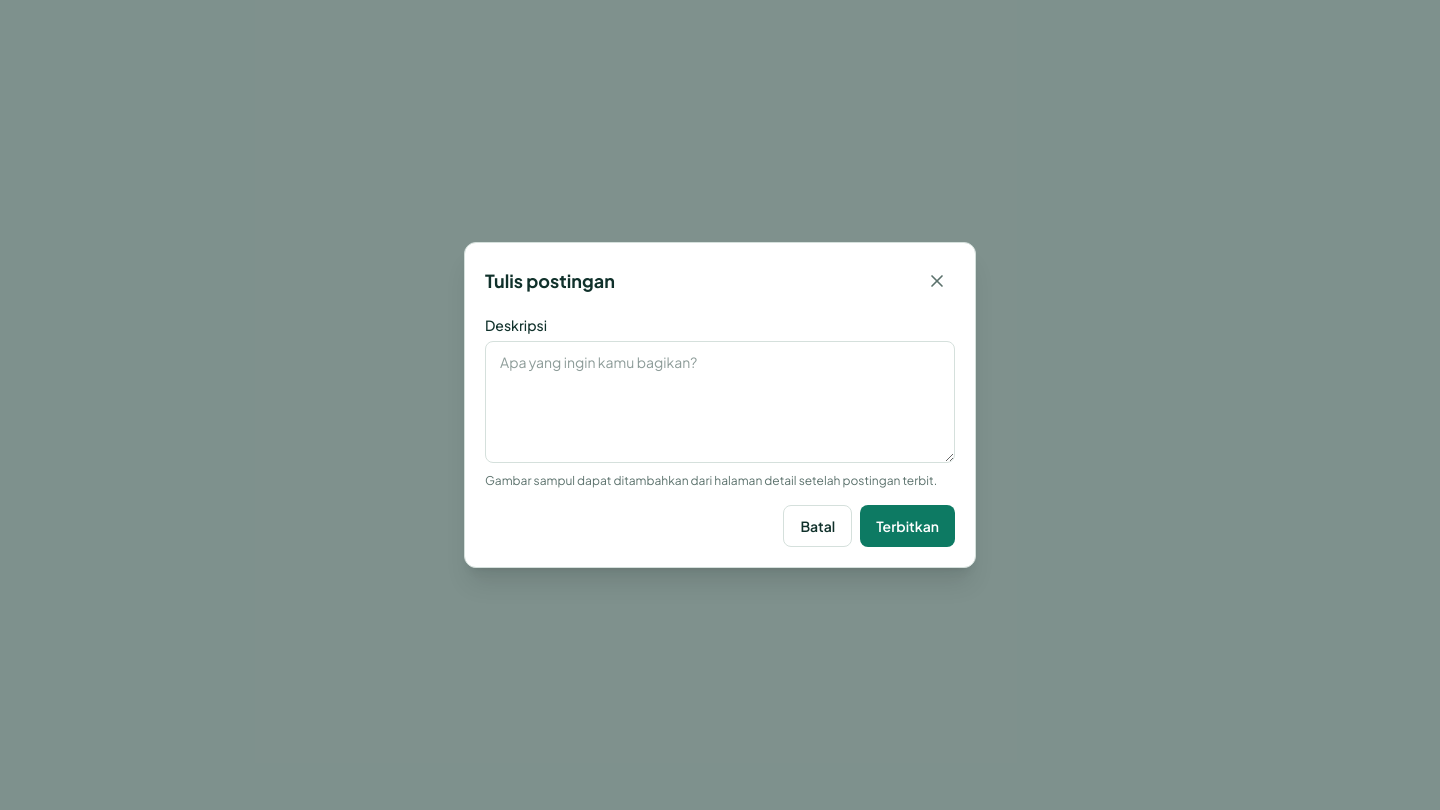
Test: AddModal › menghapus pesan error setelah deskripsi diisi
Step 1. Click the button "Terbitkan" → (908, 526), box x1=860 y1=505 x2=955 y2=547
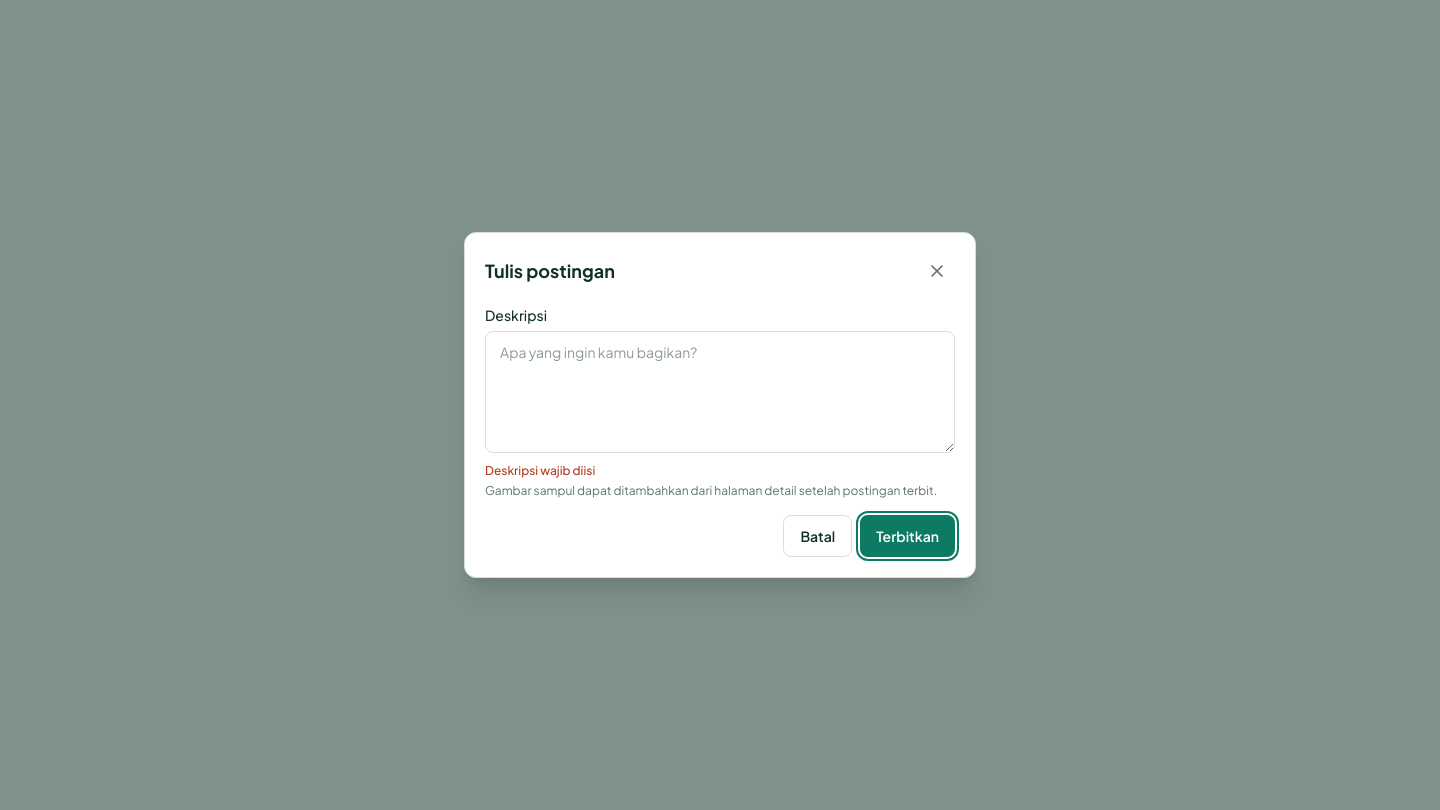
Step 2. Type "isi" into the text box labelled "Deskripsi" → (720, 392), box x1=485 y1=331 x2=955 y2=453
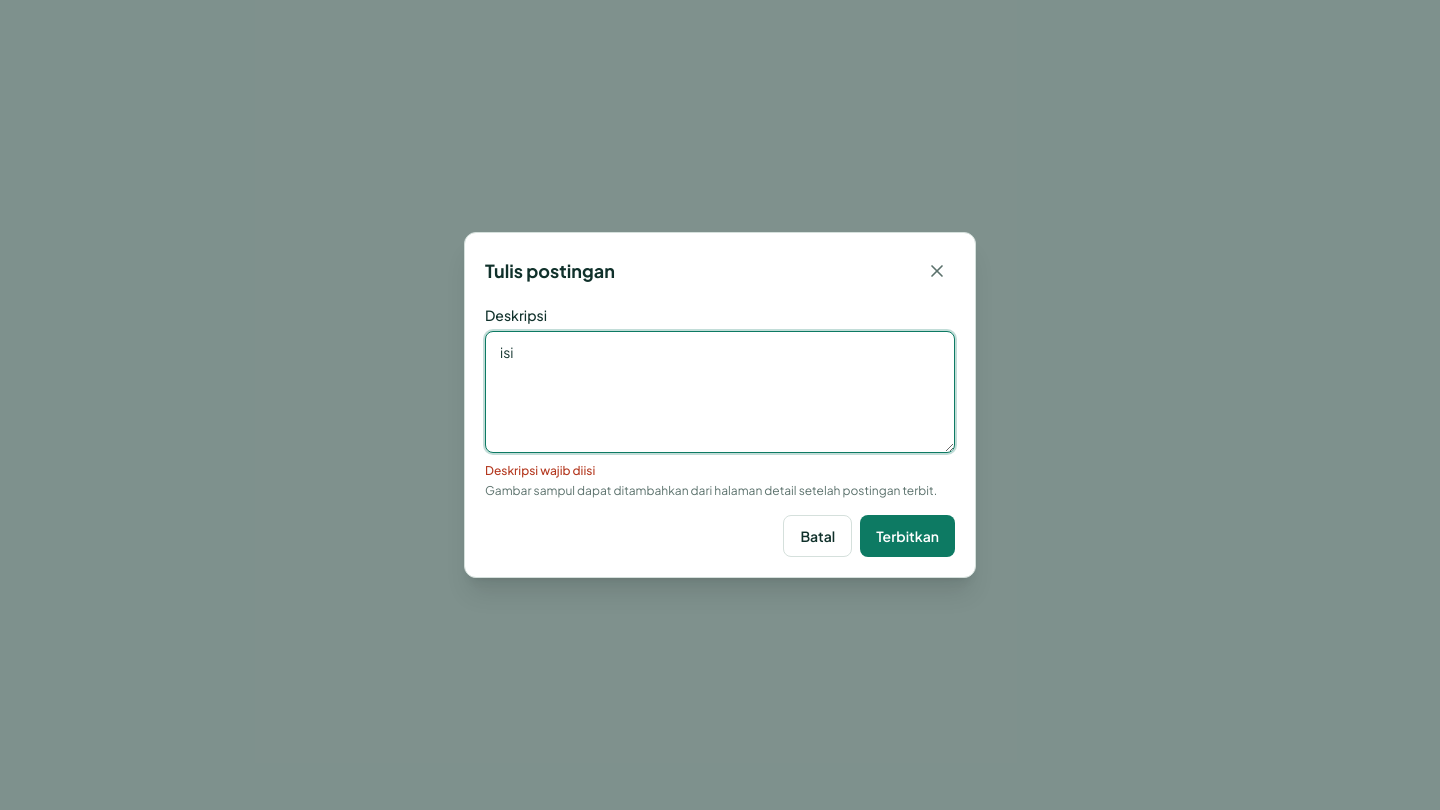
Step 3. Click the button "Terbitkan" → (908, 536), box x1=860 y1=515 x2=955 y2=557
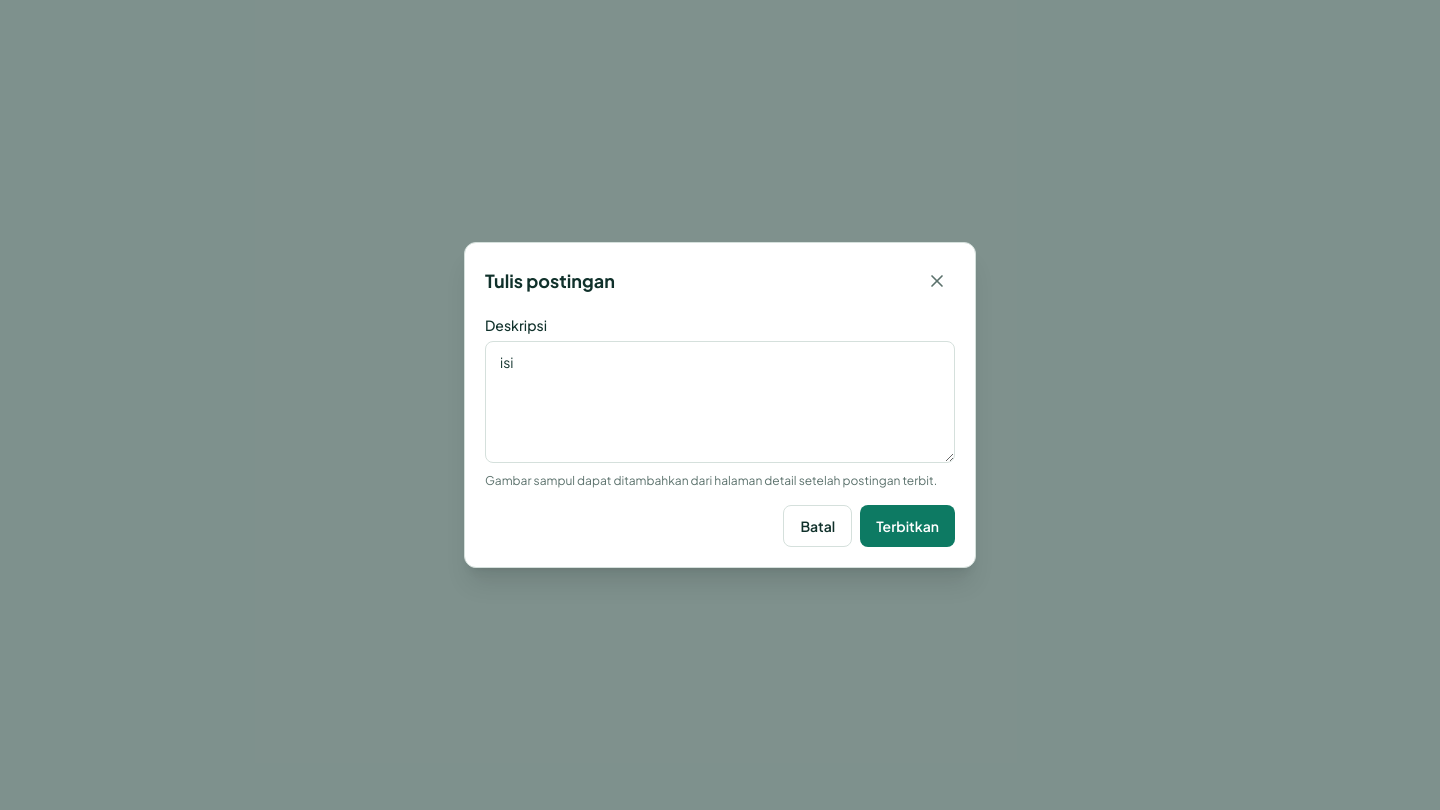
Expected: the text "Deskripsi wajib diisi" is gone
